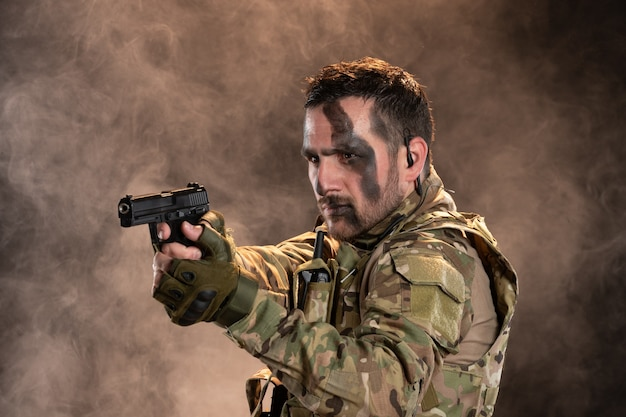gun: (117, 182, 210, 249)
